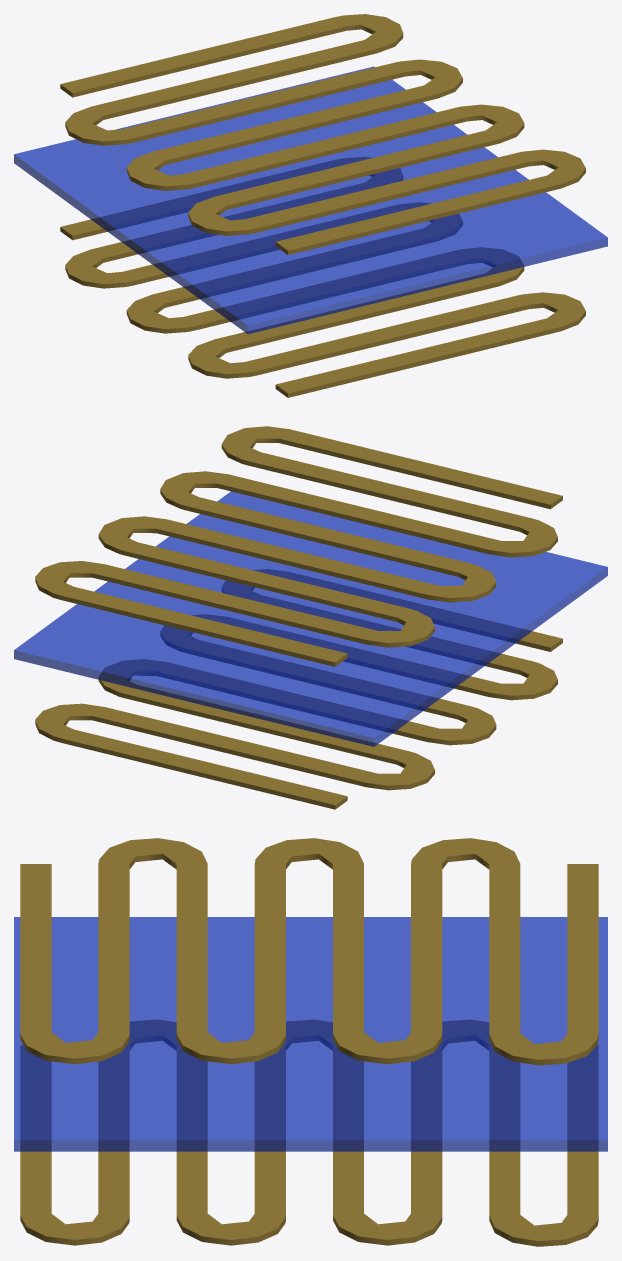
File: serpentine.glb
3 views of the same model, one above another, from view 1: azimuth 30°, elevation 25°; view 2: azimuth 150°, elevation 25°; view 3: azimuth 270°, elevation 25° (orthographic). The views are drawn at different scales.
Bounding box in the file's own units: 0.00169 × 0.00066 × 0.0019.
